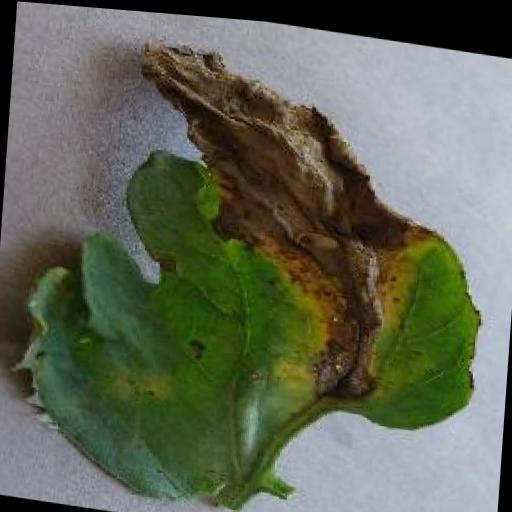Early Blight: (9, 23, 496, 512)
